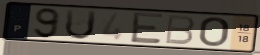4: (99, 11, 127, 43)
9: (32, 7, 62, 40)
B: (163, 14, 196, 47)
E: (130, 11, 166, 45)
O: (198, 16, 231, 48)
U: (63, 9, 99, 42)
